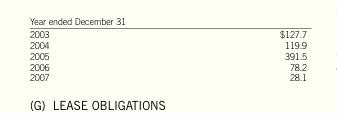table: (28, 28, 306, 82)
table column: (163, 28, 306, 82), (28, 28, 163, 82)
table row: (28, 28, 306, 39), (28, 39, 306, 50), (28, 60, 306, 71), (28, 71, 306, 82), (28, 50, 306, 60)
